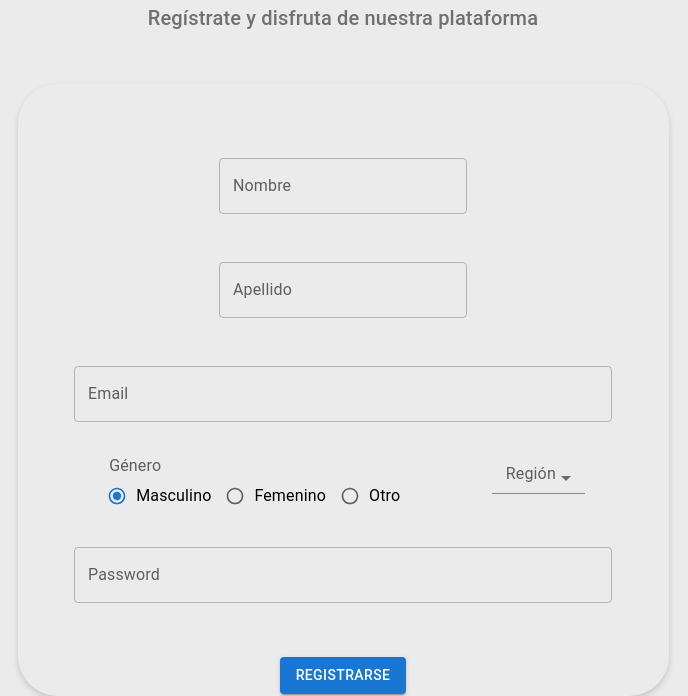
When the user uses the form › should show all the errors if the user does click in the buttons without fill all the inputs
(page scrolled)
What coordinates should you click on to do the following:
click the button "Registrarse"
I would click on:
 (343, 675)
Its box is 280,657 -> 406,694.
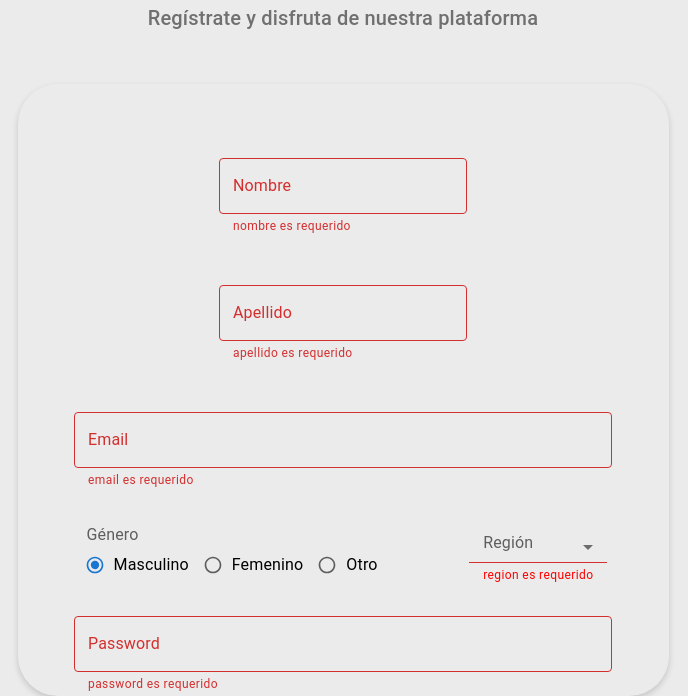
Expected: the text "nombre es requerido" is shown, 233,219 -> 351,233
Expected: the text "apellido es requerido" is shown, 233,346 -> 353,360
Expected: the text "email es requerido" is shown, 88,473 -> 194,487
